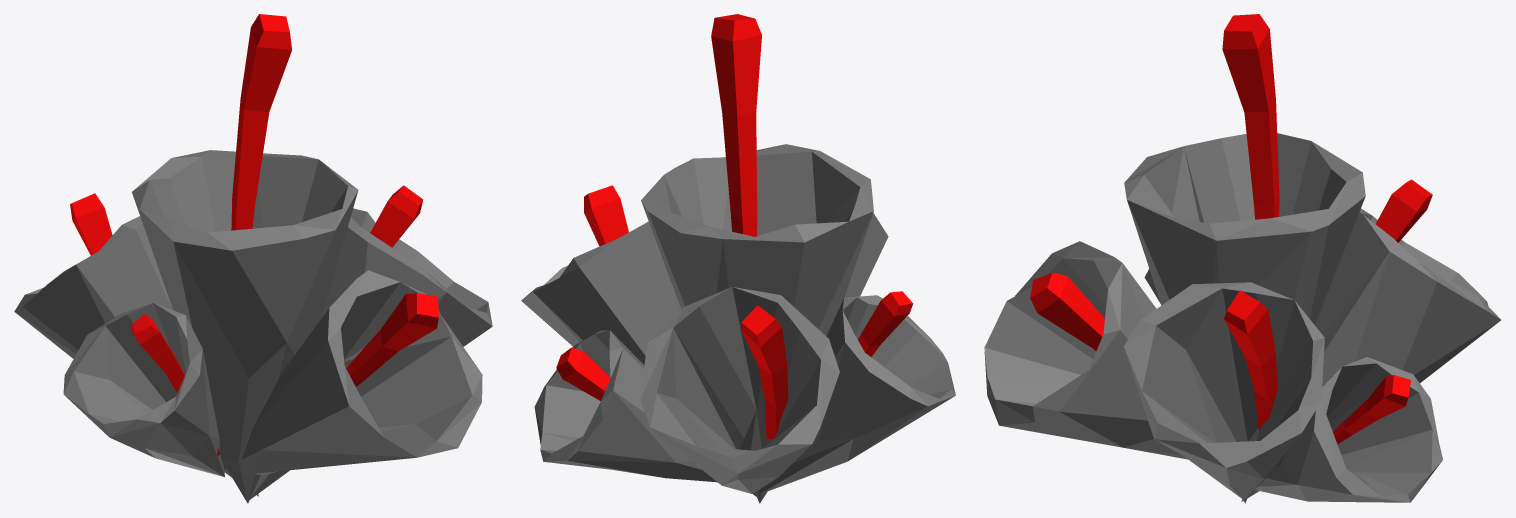
File: FungiCone04.fbx
3 renders of one model, left to right at view 1: azimuth 30°, elevation 25°; view 2: azimuth 150°, elevation 25°; view 3: azimuth 270°, elevation 25°, orthographic. The views are drawn at different scales.
Visible parts, largest first — view 1: FungiCone04; view 2: FungiCone04; view 3: FungiCone04.
Boxes of the visible parts, bbox=[...] form: FungiCone04: bbox=[14, 14, 492, 503]; FungiCone04: bbox=[521, 14, 955, 503]; FungiCone04: bbox=[984, 14, 1500, 503].
Bounding box in the file's own units: 54.45 × 61.86 × 58.09.
